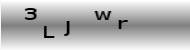3: (24, 7, 38, 21)
J: (62, 20, 71, 37)
L: (42, 25, 55, 40)
r: (117, 18, 128, 29)
w: (94, 9, 112, 21)
